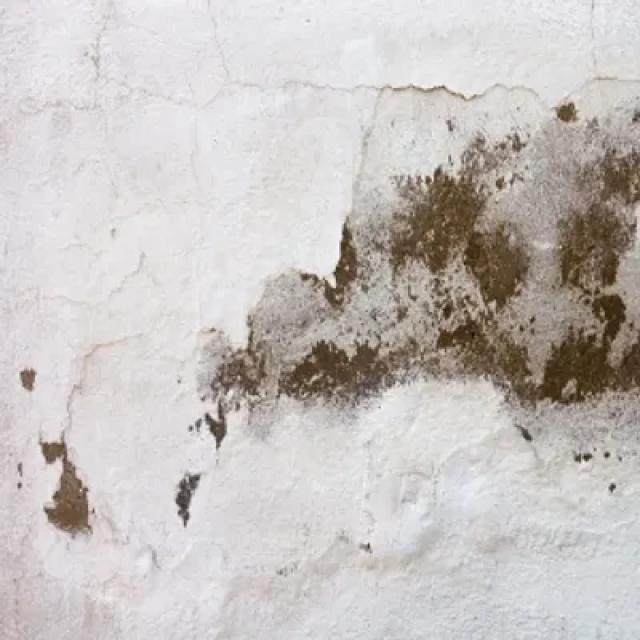stain_mould: (178, 81, 638, 520), (39, 437, 92, 539), (20, 367, 37, 387)
